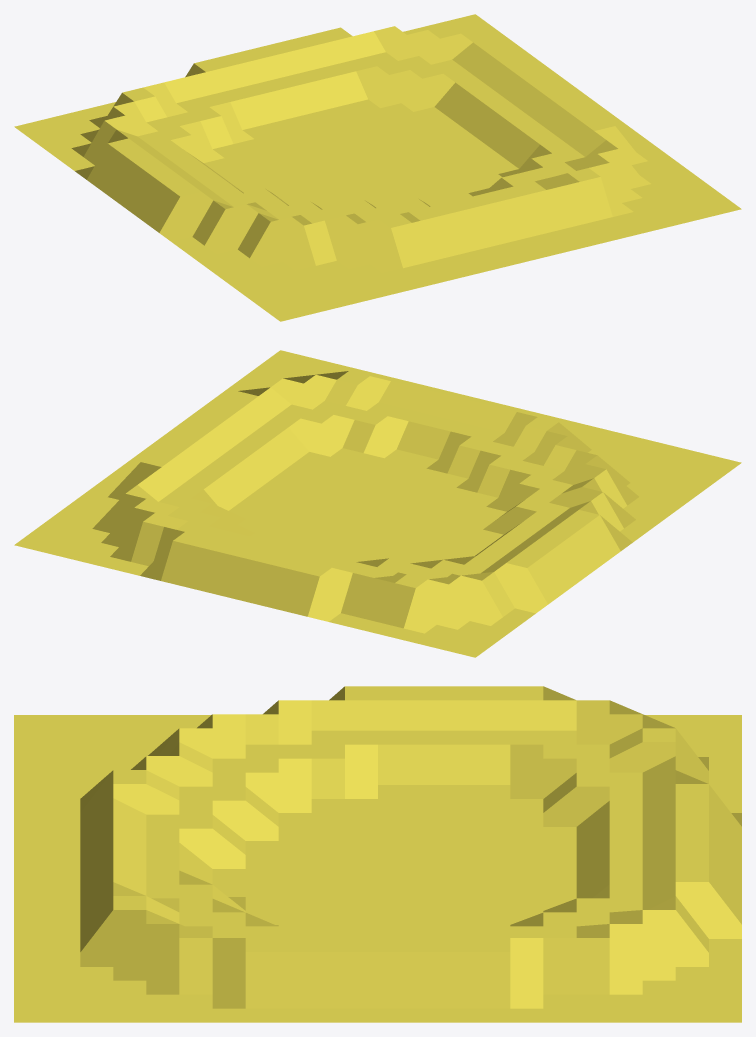
Rendered from escenarioBombas.fbx.
The picture shows the model from 3 angles, top to bottom: view 1: azimuth 30°, elevation 25°; view 2: azimuth 150°, elevation 25°; view 3: azimuth 270°, elevation 25°; orthographic projection. The views are drawn at different scales.
Parts seen in each view (by area): view 1: Plane; view 2: Plane; view 3: Plane.
Part boxes in pixels (left/top/right/bottom): Plane: left=14, top=14, right=741, bottom=321; Plane: left=14, top=350, right=741, bottom=657; Plane: left=14, top=686, right=741, bottom=1022.
Bounding box in the file's own units: 2000 × 130 × 2000.
